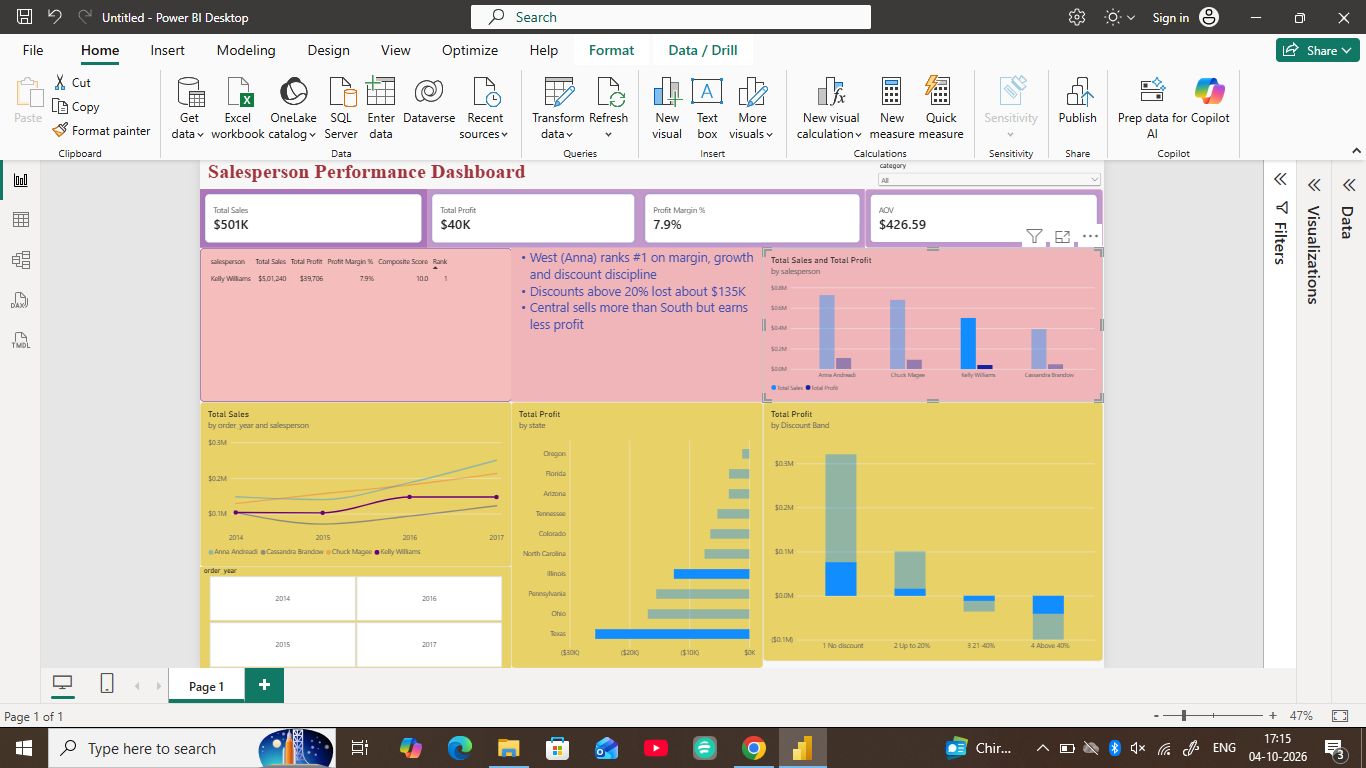

This screenshot's page, from the dashboard's own definition file:
{"tool":"powerbi","page":{"name":"Page 1","canvas":[1920,1080],"ordinal":0},"visuals":[{"type":"tableEx","fields":{"Values":["superstore.salesperson","superstore.Total Sales","superstore.Total Profit","superstore.Profit Margin %","superstore.Composite Score","superstore.Rank"]},"box":[0,187.1,663.3,327.4],"z":0},{"type":"textbox","box":[17,0,733.5,82.9],"z":1000},{"type":"cardVisual","fields":{"Data":["superstore.Total Sales"]},"box":[0,61.7,482.6,125.4],"z":2000},{"type":"cardVisual","fields":{"Data":["superstore.Total Profit"]},"box":[482.6,61.7,452.8,125.4],"z":3000},{"type":"cardVisual","fields":{"Data":["superstore.Profit Margin %"]},"box":[935.4,61.7,478.3,125.4],"z":4000},{"type":"cardVisual","fields":{"Data":["superstore.AOV"]},"box":[1413.8,61.7,506,125.4],"z":5000},{"type":"slicer","fields":{"Values":["superstore.order_year"]},"box":[0,865.3,661.2,214.7],"z":6000},{"type":"slicer","fields":{"Values":["superstore.category"]},"box":[1437.2,4.3,482.6,57.4],"z":7000},{"type":"clusteredColumnChart","fields":{"Category":["superstore.salesperson"],"Y":["superstore.Total Sales","superstore.Total Profit"]},"box":[1196.9,187.1,722.8,327.4],"z":8000},{"type":"lineChart","fields":{"Category":["superstore.order_year"],"Series":["superstore.salesperson"],"Y":["superstore.Total Sales"]},"box":[0,514.5,663.3,350.8],"z":9000},{"type":"clusteredBarChart","fields":{"Category":["superstore.state"],"Y":["superstore.Total Profit"]},"box":[661.2,514.5,535.7,565.5],"z":10000},{"type":"clusteredColumnChart","fields":{"Category":["superstore.Discount Band"],"Y":["superstore.Total Profit"]},"box":[1196.9,514.5,722.8,550.6],"z":11000},{"type":"textbox","box":[661.2,187.1,535.7,327.4],"z":11001}]}

Visuals, with their boxes on the page's 1920x1080 design canvas (x1, y1, x2, y2). These are canvas units, not pixel positions in the 1366x768 screenshot, which may show the page scaled, cropped or inside an application window:
tableEx - superstore.salesperson x superstore.Total Sales: (0, 187, 663, 514)
textbox: (17, 0, 750, 83)
cardVisual - superstore.Total Sales: (0, 62, 483, 187)
cardVisual - superstore.Total Profit: (483, 62, 935, 187)
cardVisual - superstore.Profit Margin %: (935, 62, 1414, 187)
cardVisual - superstore.AOV: (1414, 62, 1920, 187)
slicer - superstore.order_year: (0, 865, 661, 1080)
slicer - superstore.category: (1437, 4, 1920, 62)
clusteredColumnChart - superstore.salesperson x superstore.Total Sales: (1197, 187, 1920, 514)
lineChart - superstore.order_year x superstore.salesperson: (0, 514, 663, 865)
clusteredBarChart - superstore.state x superstore.Total Profit: (661, 514, 1197, 1080)
clusteredColumnChart - superstore.Discount Band x superstore.Total Profit: (1197, 514, 1920, 1065)
textbox: (661, 187, 1197, 514)
